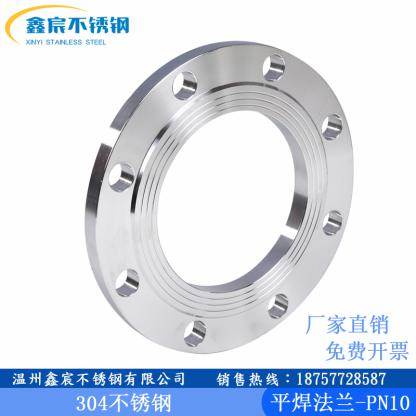FOD: (83, 34, 356, 356)
